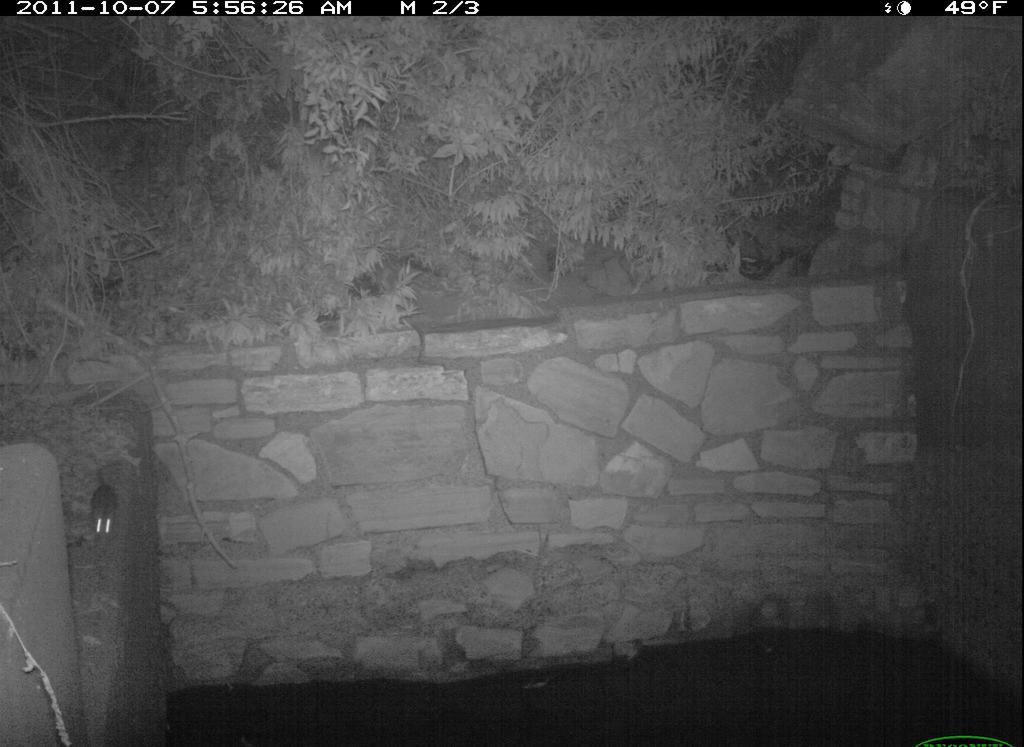rodent: (78, 461, 156, 555)
